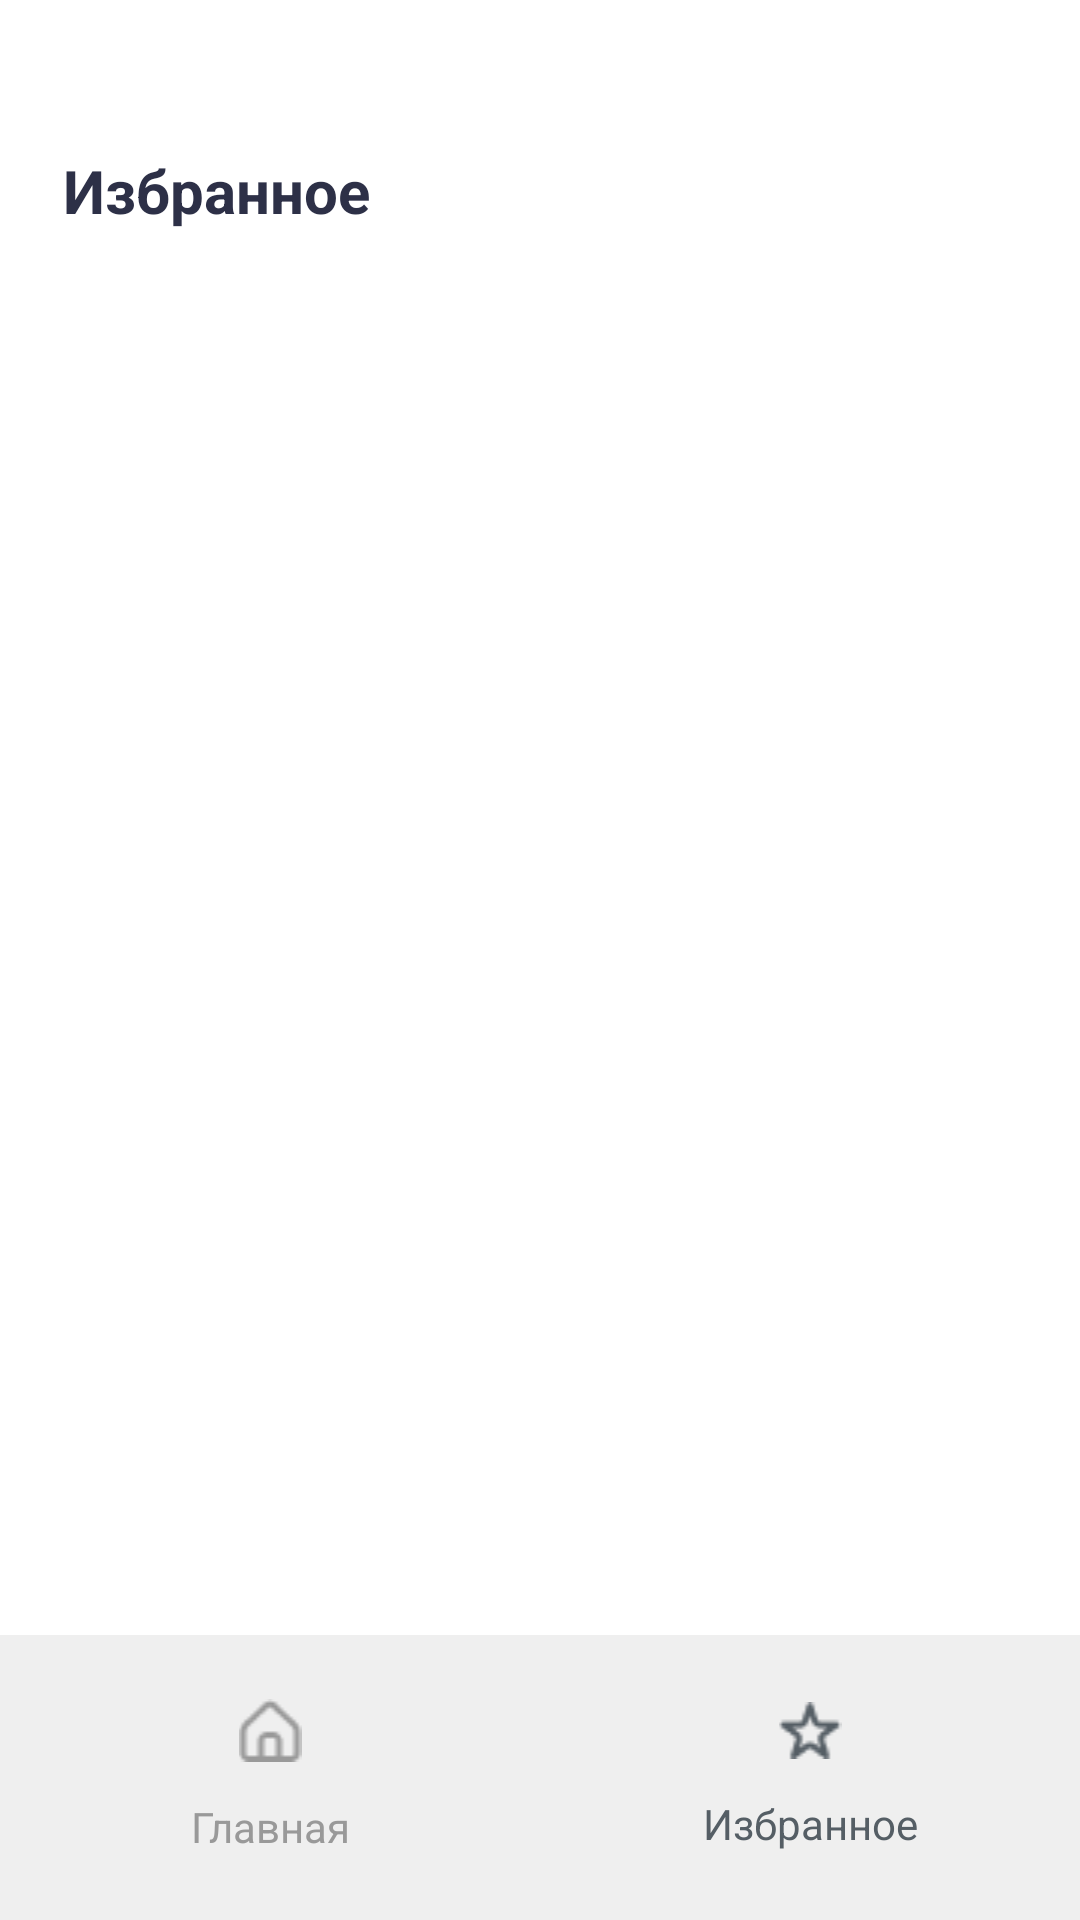

Where to tap for icons on this 1080 x 1920 app screen, as [x,y]:
im home not: [270,1731]
